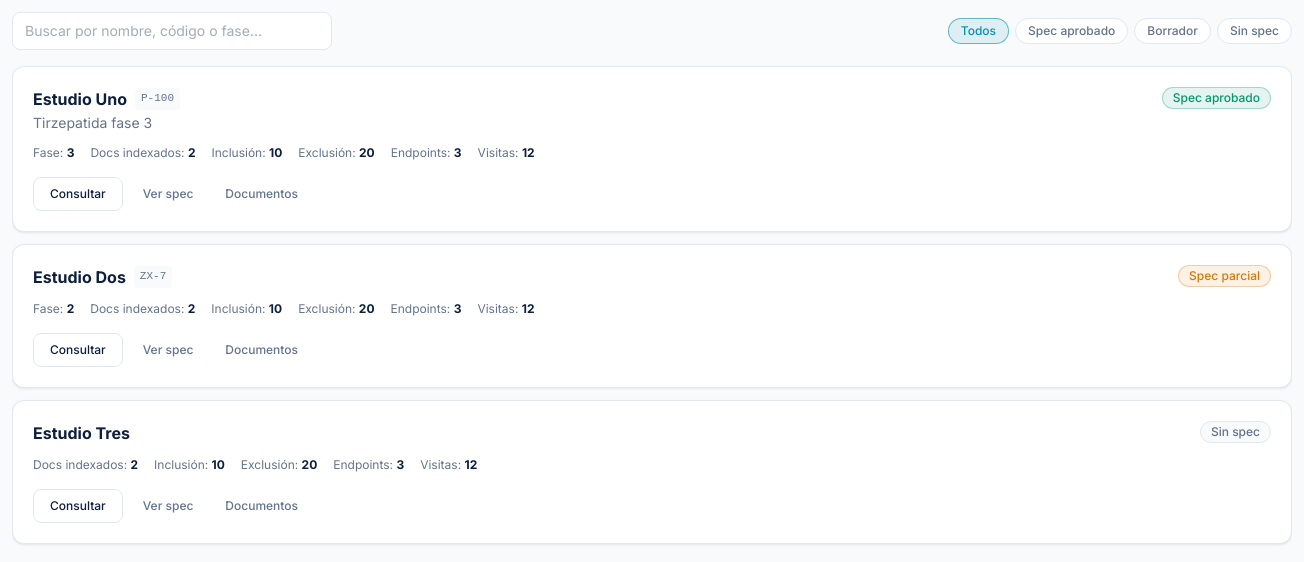
Test: LibraryClient › filtra por estado de la spec
Click the button "Spec aprobado" at (1072, 31), box [1015,18,1128,44]
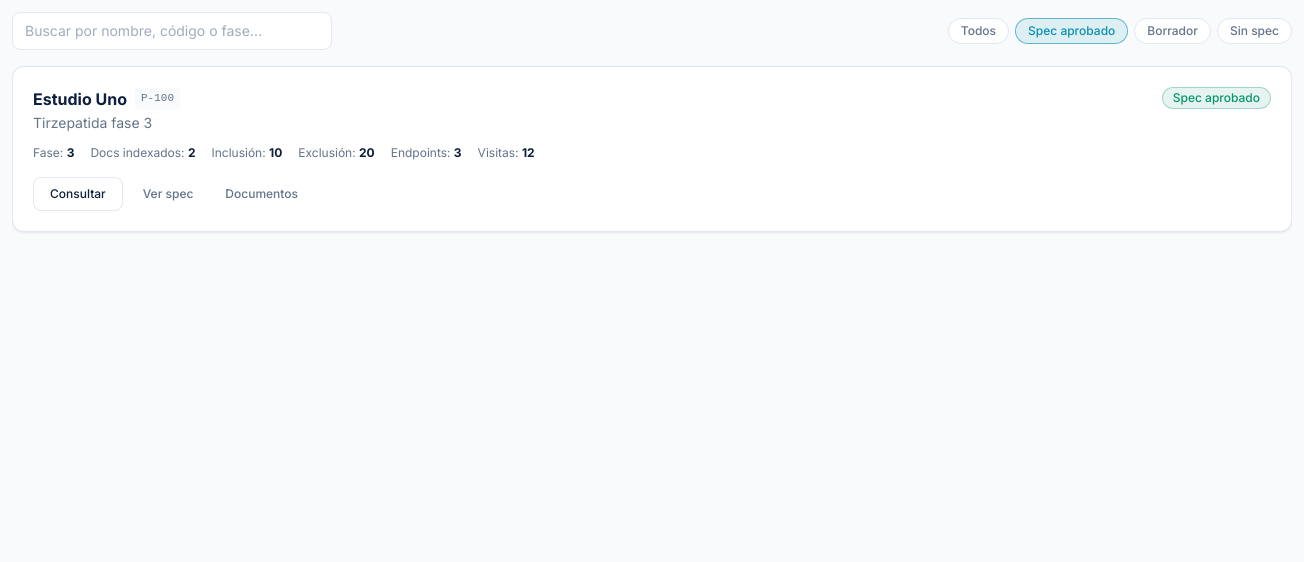
Click the button "Borrador" at (1173, 31), box [1134,18,1211,44]
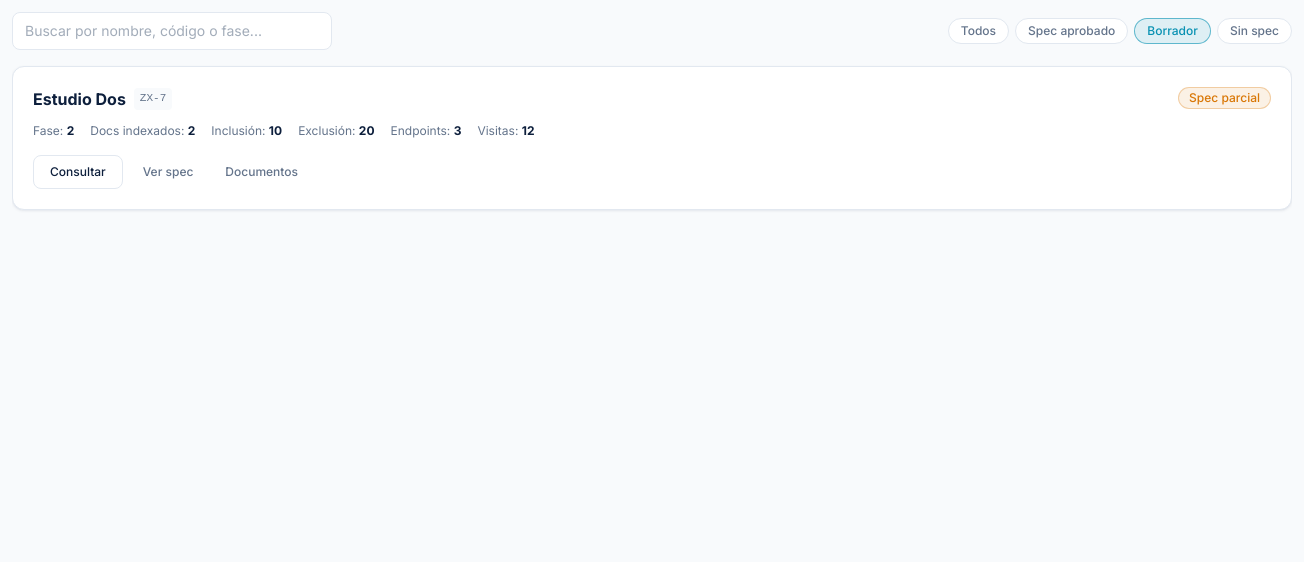
Click the button "Sin spec" at (1254, 31), box [1217,18,1292,44]
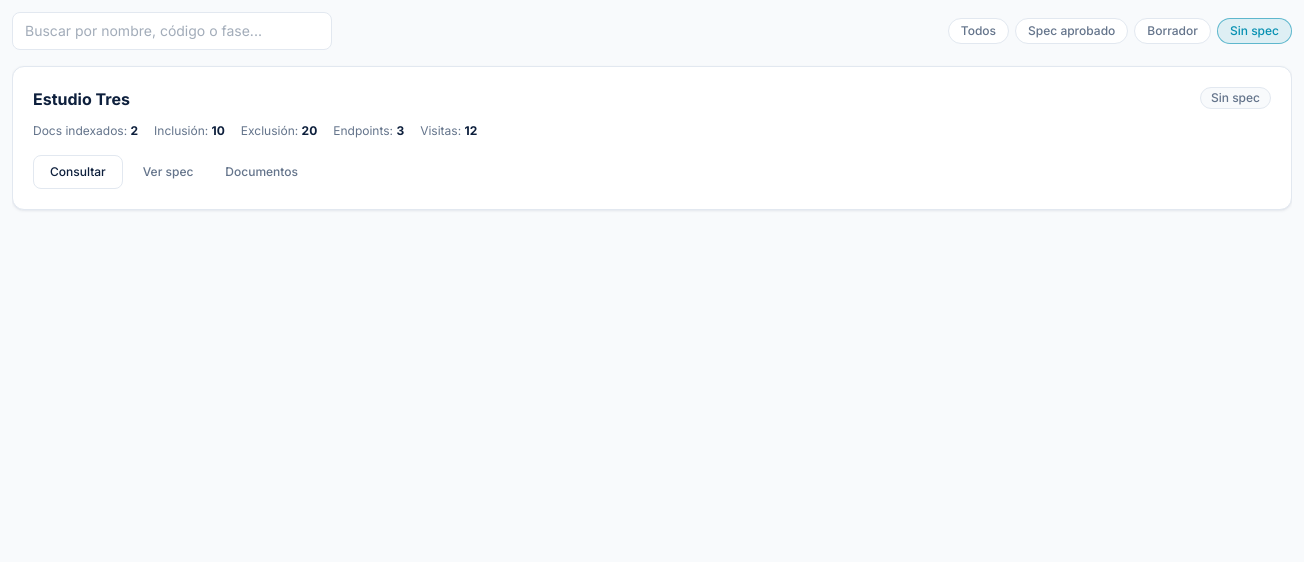
Click the button "Todos" at (978, 31), box [948,18,1009,44]
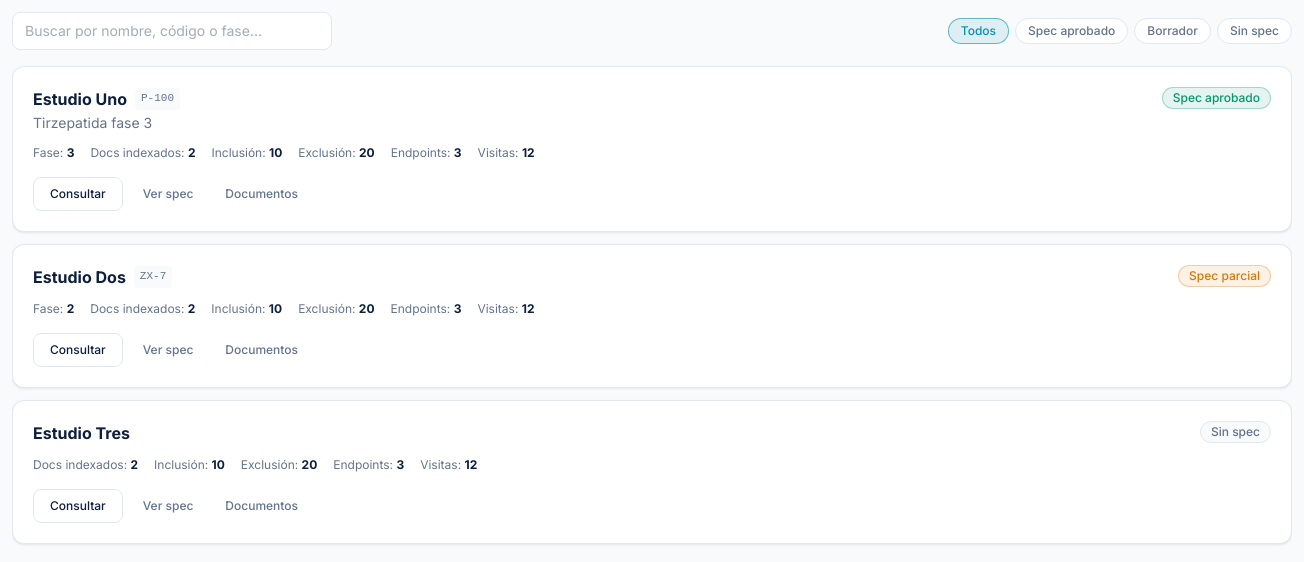
expect the number of headings is 3: met, box [33,87,127,111]; [33,265,126,289]; [33,421,130,445]
